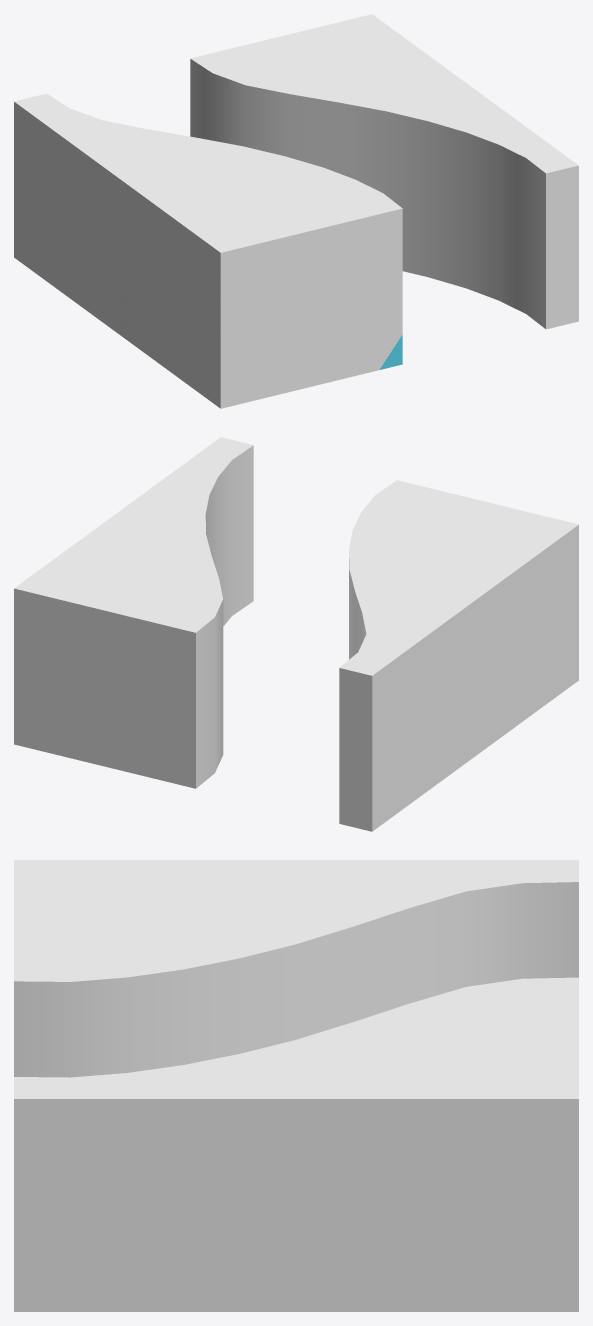
The model's file is invisiblewall3.fbx.
3 renders of one model, top to bottom at view 1: azimuth 30°, elevation 25°; view 2: azimuth 150°, elevation 25°; view 3: azimuth 270°, elevation 25°, orthographic. The views are drawn at different scales.
Parts seen in each view (by area): view 1: pCube1; view 2: pCube1; view 3: pCube1.
Boxes of the visible parts, bbox=[...] form: pCube1: bbox=[14, 14, 578, 408]; pCube1: bbox=[14, 437, 578, 831]; pCube1: bbox=[14, 860, 578, 1311].
Bounding box in the file's own units: 24.03 × 10 × 24.03.
